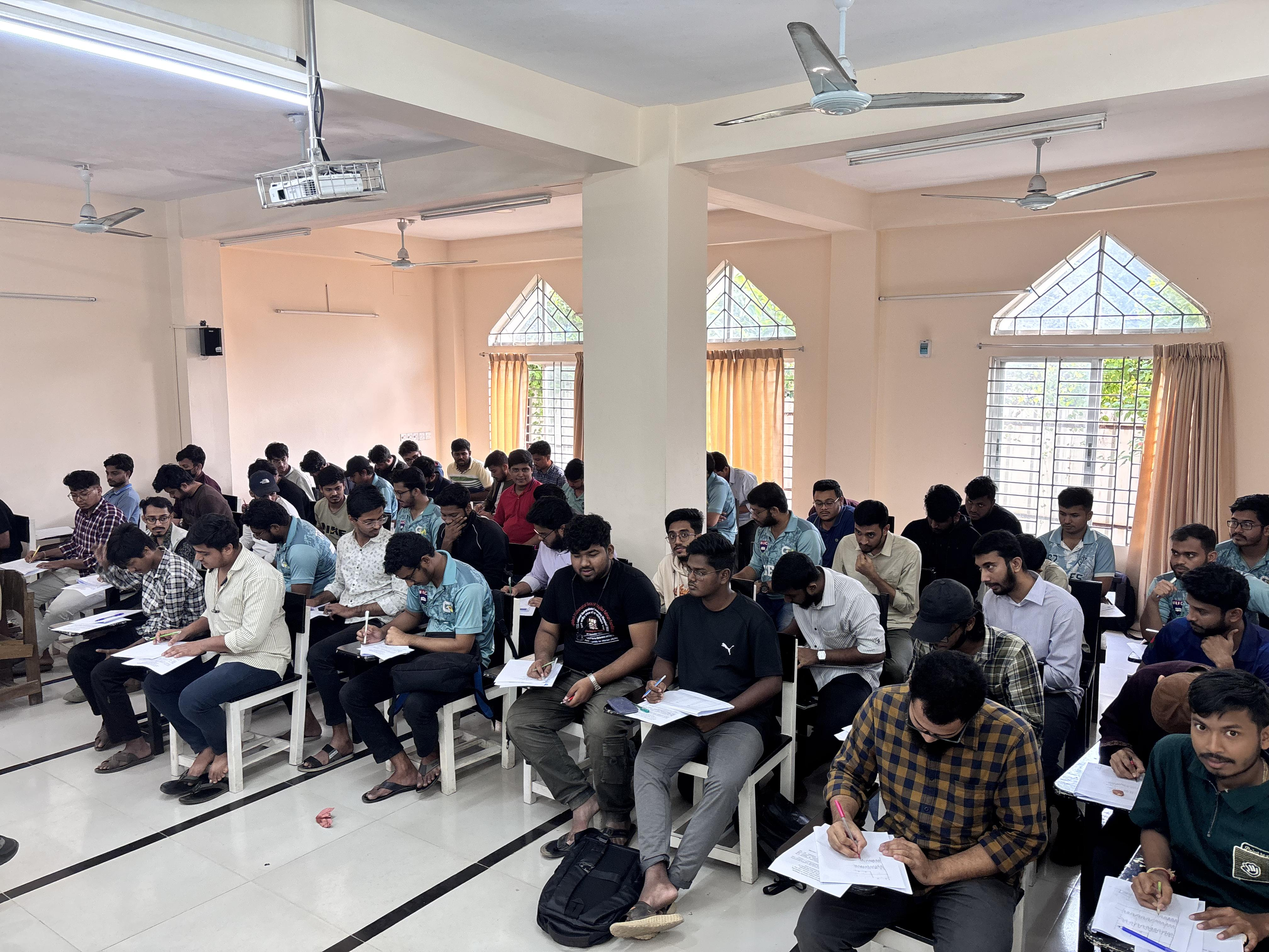copying: (338, 482, 389, 611), (313, 465, 342, 514), (244, 470, 282, 503), (263, 439, 295, 477), (448, 438, 475, 477)
no_cheating: (818, 647, 1021, 914), (1106, 662, 1269, 923), (635, 538, 761, 755), (532, 512, 638, 737), (176, 524, 263, 778), (85, 522, 179, 744), (371, 530, 473, 723), (766, 547, 873, 656), (902, 573, 985, 653), (840, 496, 912, 583), (243, 497, 318, 578), (971, 534, 1035, 611), (517, 502, 580, 573), (919, 481, 969, 558), (437, 484, 490, 555), (1052, 484, 1099, 564), (1220, 487, 1269, 560), (57, 467, 105, 538), (660, 506, 701, 573), (151, 466, 207, 515), (391, 470, 434, 531), (962, 473, 1000, 537), (1165, 524, 1211, 576), (807, 475, 846, 536), (505, 449, 539, 511), (174, 443, 212, 481), (101, 452, 136, 492), (481, 447, 511, 489), (345, 455, 379, 484), (562, 456, 587, 493), (528, 440, 554, 475)
side_talking: (1157, 559, 1259, 661), (741, 481, 811, 560), (136, 494, 162, 535)
